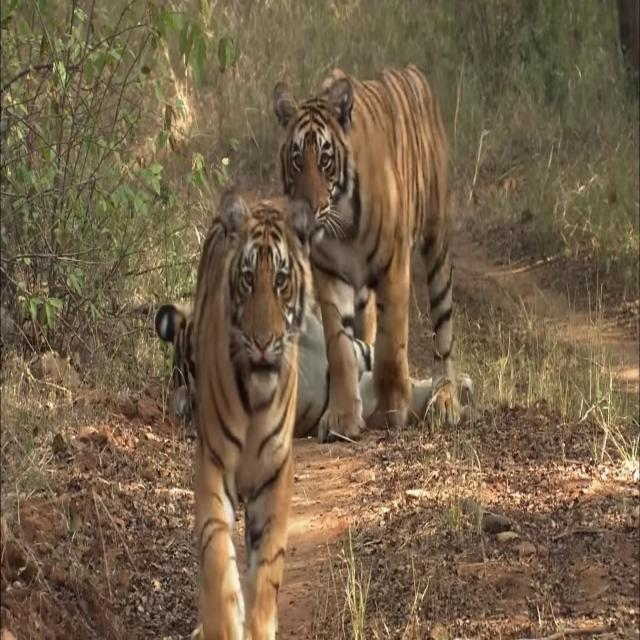tiger: (273, 62, 462, 442), (191, 202, 316, 640)
